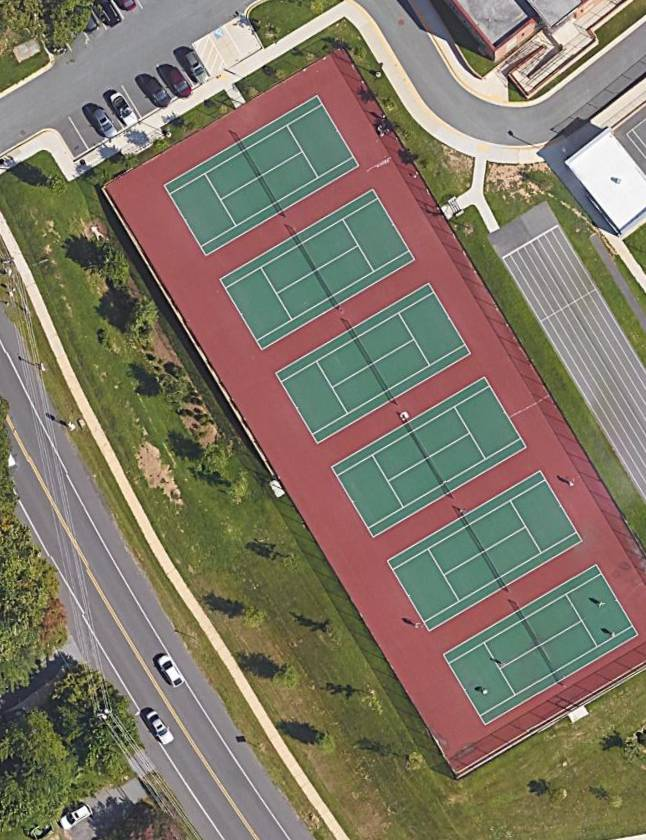small vehicle: (143, 708, 176, 749), (107, 89, 140, 129), (155, 651, 186, 690), (180, 49, 212, 86), (58, 802, 93, 834), (164, 66, 196, 101), (143, 77, 174, 112), (92, 106, 119, 140)
tennis court: (331, 374, 528, 541), (442, 562, 640, 727), (275, 282, 473, 446), (217, 188, 416, 351), (386, 470, 583, 634), (164, 94, 360, 256)
